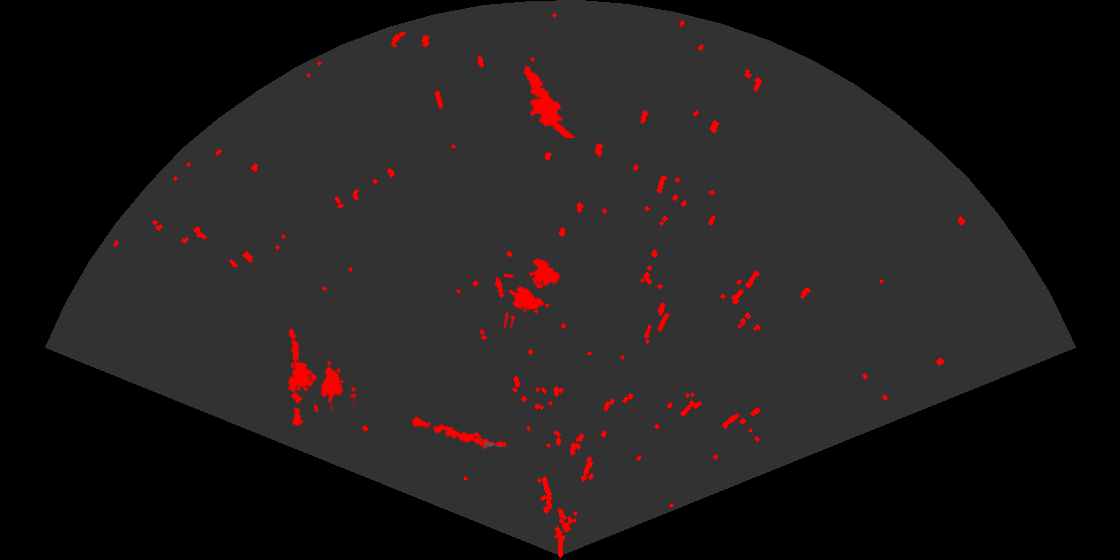cage: (504, 256, 562, 328), (286, 359, 356, 412)
chain: (409, 415, 508, 449), (287, 327, 305, 426)
frogman: (522, 64, 577, 138)
